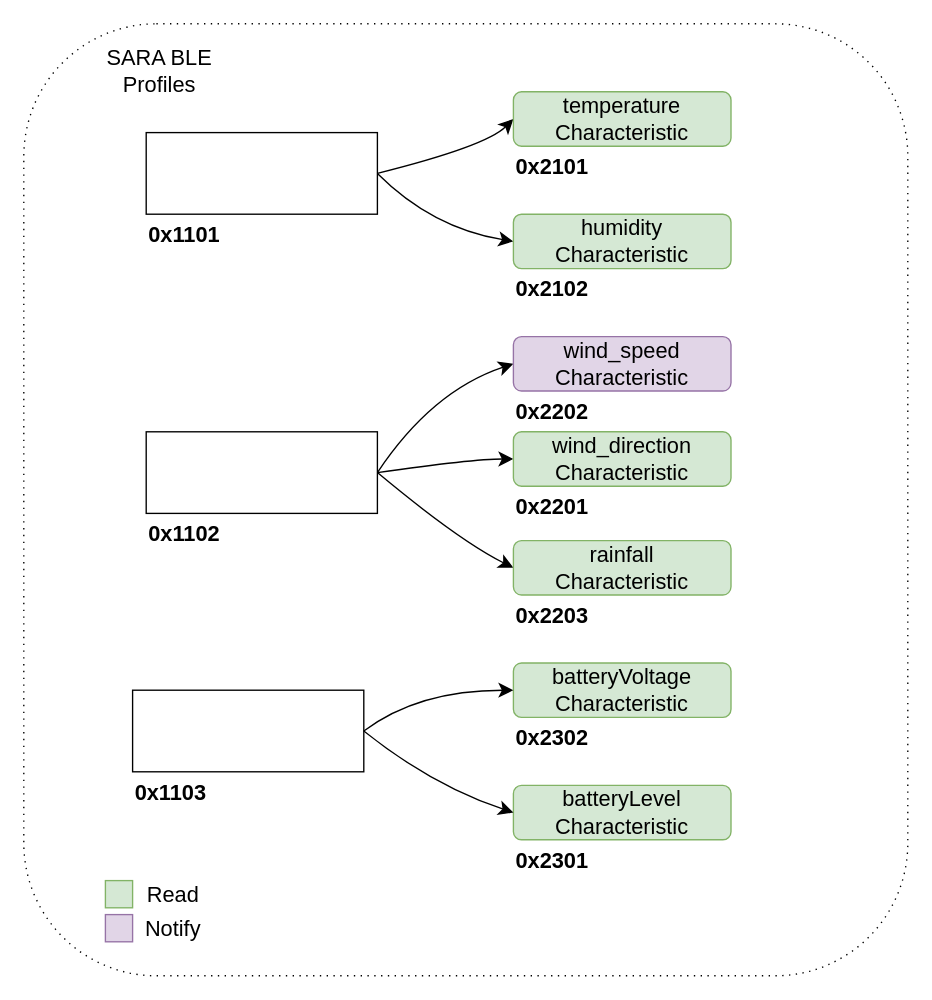
Image size: 932x1000. Some labels were removed from this diagram. Each missing label, with the box of its shape:
Air Service: (145, 131, 377, 214)
Battery Service: (131, 689, 364, 772)
WeatherStation Service: (145, 430, 377, 513)
